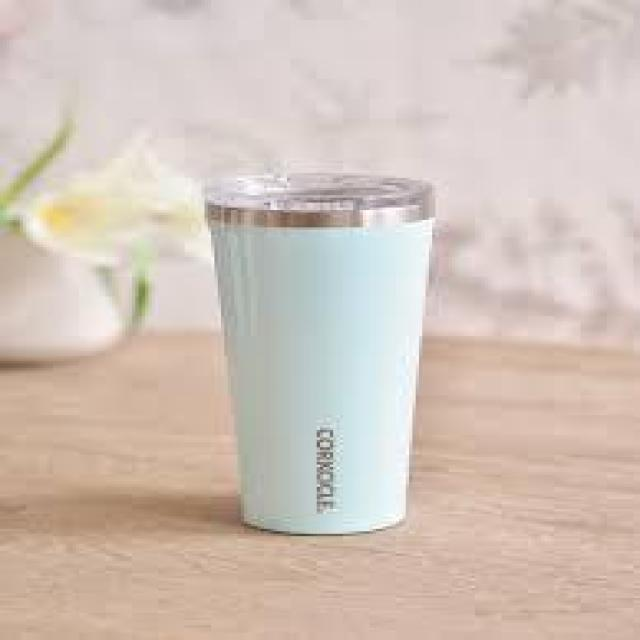bottle: (204, 172, 438, 532)
